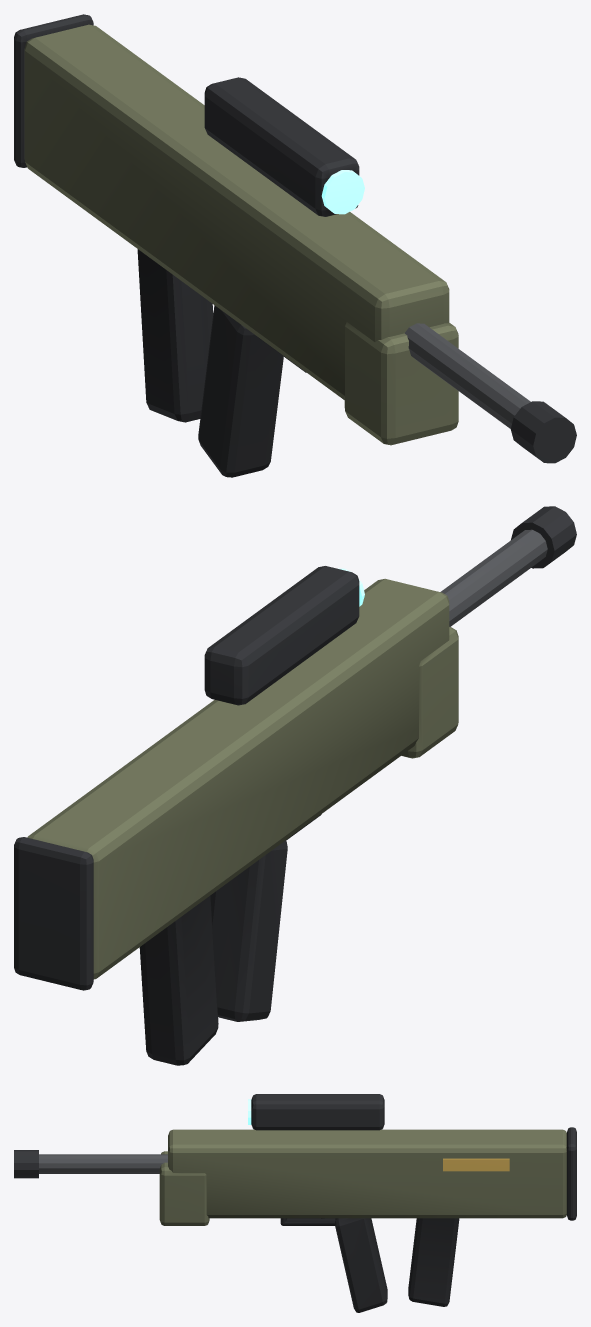
The model's file is kestrel_bp.glb.
3 renders of one model, top to bottom at view 1: azimuth 30°, elevation 25°; view 2: azimuth 150°, elevation 25°; view 3: azimuth 270°, elevation 25°, orthographic. The views are drawn at different scales.
Parts seen in each view (by area): view 1: kestrel_bp, mag; view 2: kestrel_bp, mag; view 3: kestrel_bp, mag.
Part boxes in pixels (<box>): kestrel_bp: <box>14,14,576,477</box>; mag: <box>137,249,213,422</box>; kestrel_bp: <box>14,506,576,1021</box>; mag: <box>139,895,218,1065</box>; kestrel_bp: <box>14,1094,576,1312</box>; mag: <box>408,1218,459,1306</box>.
Bounding box in the file's own units: 0.0611 × 0.2797 × 0.676.
